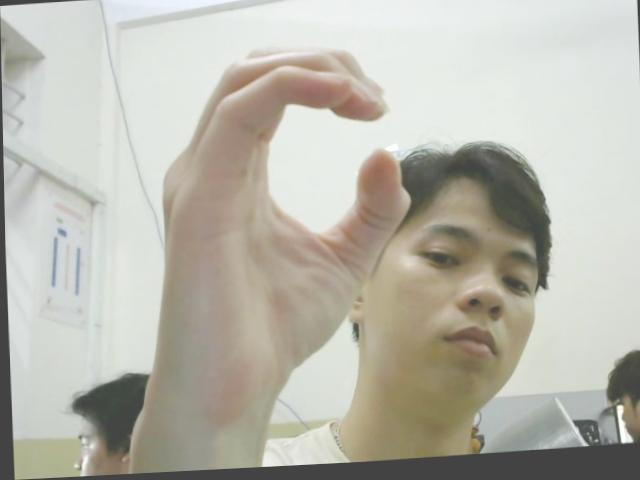C: (148, 38, 417, 416)
